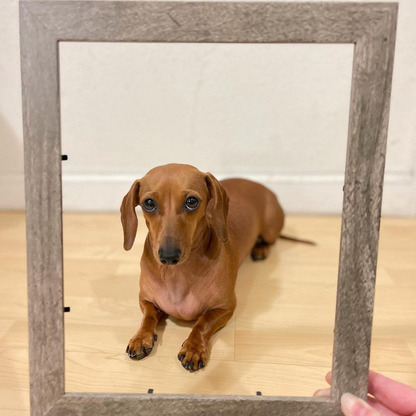dachshund: (92, 151, 330, 377)
